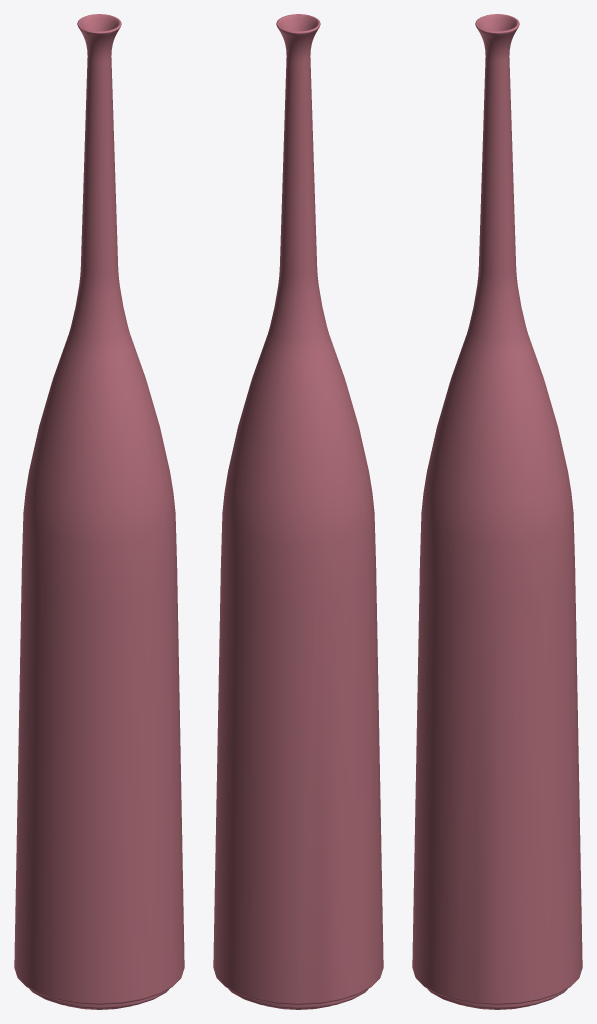
Rendered from Pot8.fbx.
3 renders of one model, left to right at view 1: azimuth 30°, elevation 25°; view 2: azimuth 150°, elevation 25°; view 3: azimuth 270°, elevation 25°, orthographic.
Visible parts, largest first — view 1: Pot8; view 2: Pot8; view 3: Pot8.
Part boxes in pixels (x1=…): Pot8: x1=14, y1=14, x2=184, y2=1009; Pot8: x1=213, y1=14, x2=383, y2=1009; Pot8: x1=412, y1=14, x2=582, y2=1009.
Size of the model in its own units: 0.0597 by 0.372 by 0.0598.
